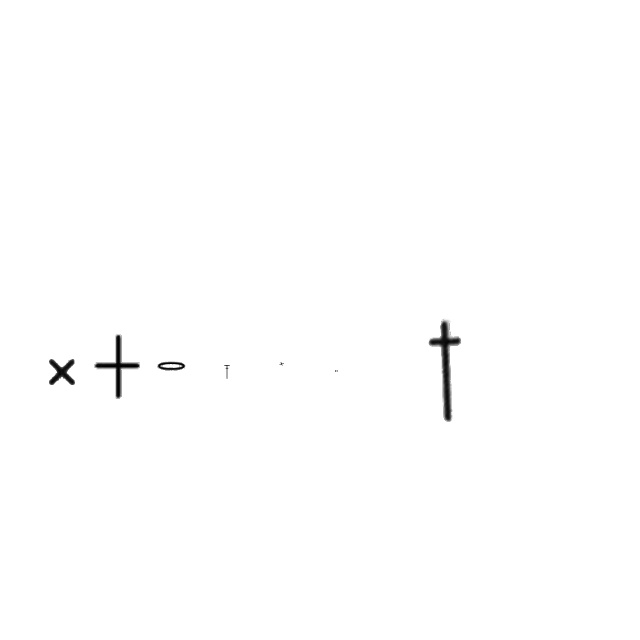chain: (156, 360, 188, 374), (336, 370, 338, 372)
double: (92, 334, 142, 400), (46, 354, 78, 388)
double treble: (224, 365, 230, 379)
enseble_chain: (416, 318, 478, 424), (280, 362, 284, 366)
